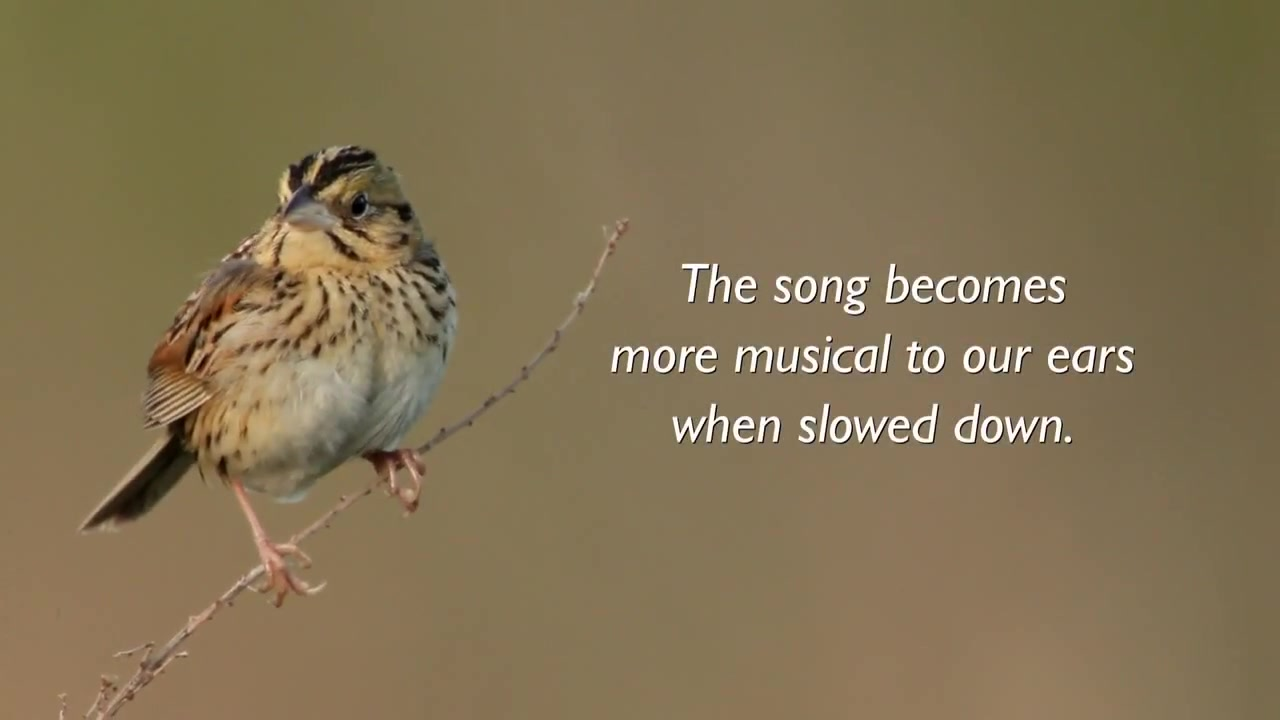bird: (79, 143, 461, 612)
